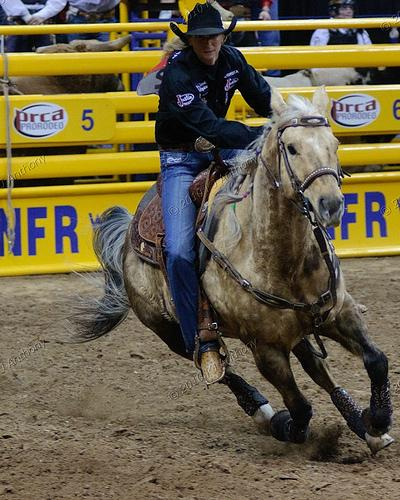person: (156, 1, 285, 386)
